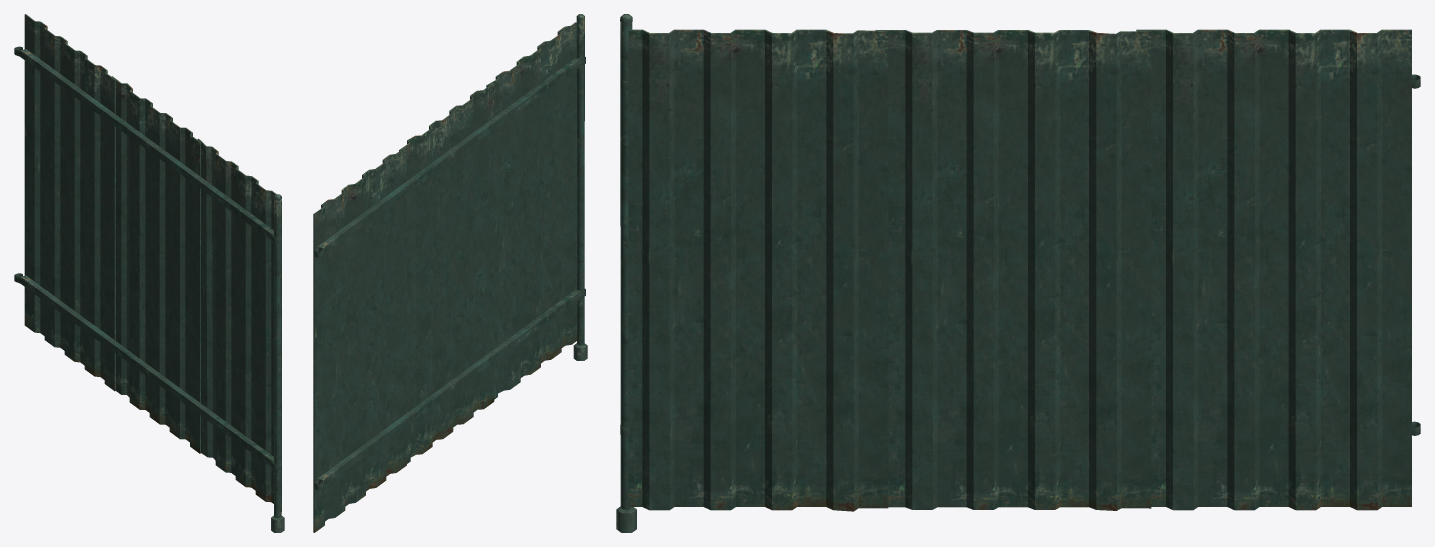
Rendered from RustedFence_B_C.fbx.
The picture shows the model from 3 angles, left to right: view 1: azimuth 30°, elevation 25°; view 2: azimuth 150°, elevation 25°; view 3: azimuth 270°, elevation 25°; orthographic projection. The views are drawn at different scales.
Visible parts, largest first — view 1: RustedFence_B_C; view 2: RustedFence_B_C; view 3: RustedFence_B_C.
Boxes of the visible parts, x1,y1,x2,y2 form: RustedFence_B_C: (14, 14, 284, 532); RustedFence_B_C: (313, 14, 587, 532); RustedFence_B_C: (616, 14, 1420, 532).
Size of the model in its own units: 10.81 by 216 by 306.
